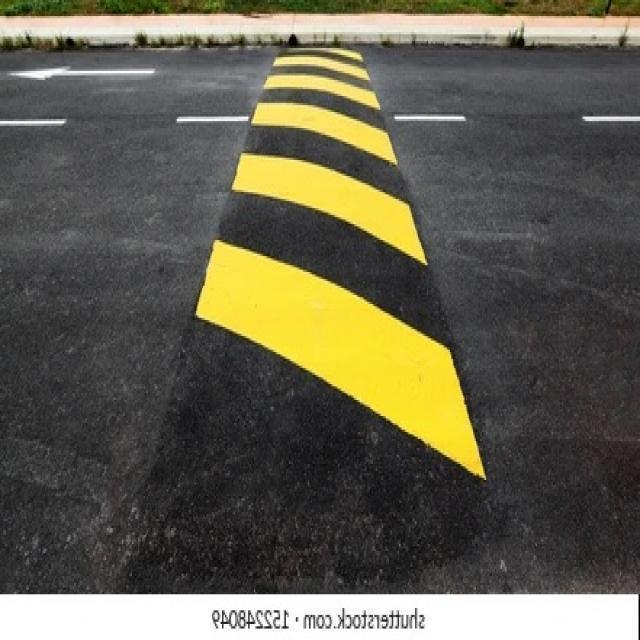speedbreaker: (147, 42, 484, 537)
